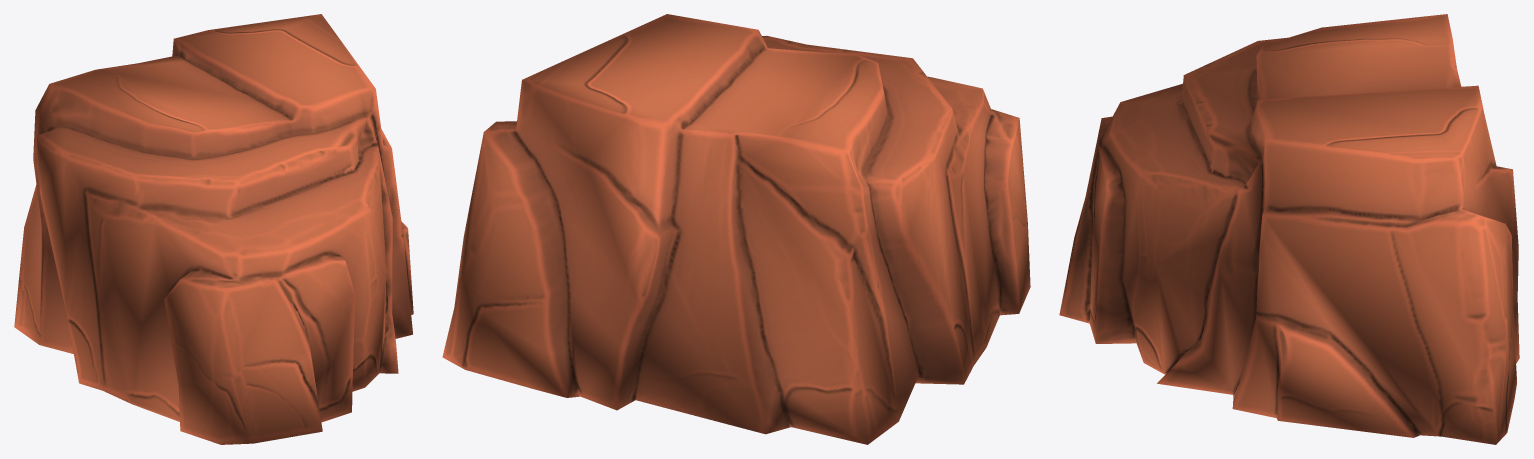
Rendered from rock_12.fbx.
3 renders of one model, left to right at view 1: azimuth 30°, elevation 25°; view 2: azimuth 150°, elevation 25°; view 3: azimuth 270°, elevation 25°, orthographic. The views are drawn at different scales.
Visible parts, largest first — view 1: Rock_12; view 2: Rock_12; view 3: Rock_12.
Part boxes in pixels (x1=…): Rock_12: x1=14, y1=14, x2=413, y2=444; Rock_12: x1=442, y1=14, x2=1030, y2=444; Rock_12: x1=1059, y1=14, x2=1519, y2=444.
Bounding box in the file's own units: 315 × 201 × 321.
Materials: 1 (1 with a texture image).
